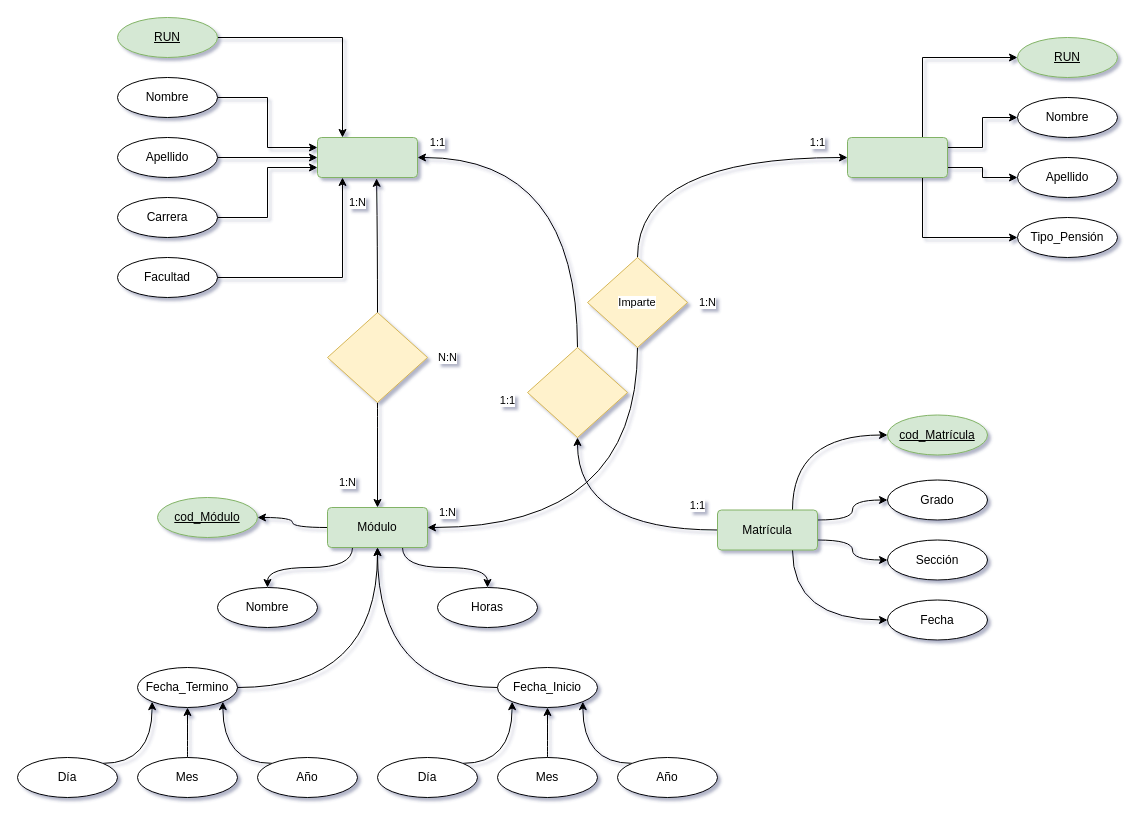
This 1141x821 diagram has some shape labels left out. The box of each missing label's shape, as (x1, y1, x2, y2) in pixels:
Cursa: (326, 312, 428, 402)
Docente: (846, 136, 948, 178)
Estudiante: (316, 136, 418, 178)
Tiene: (526, 346, 628, 438)
